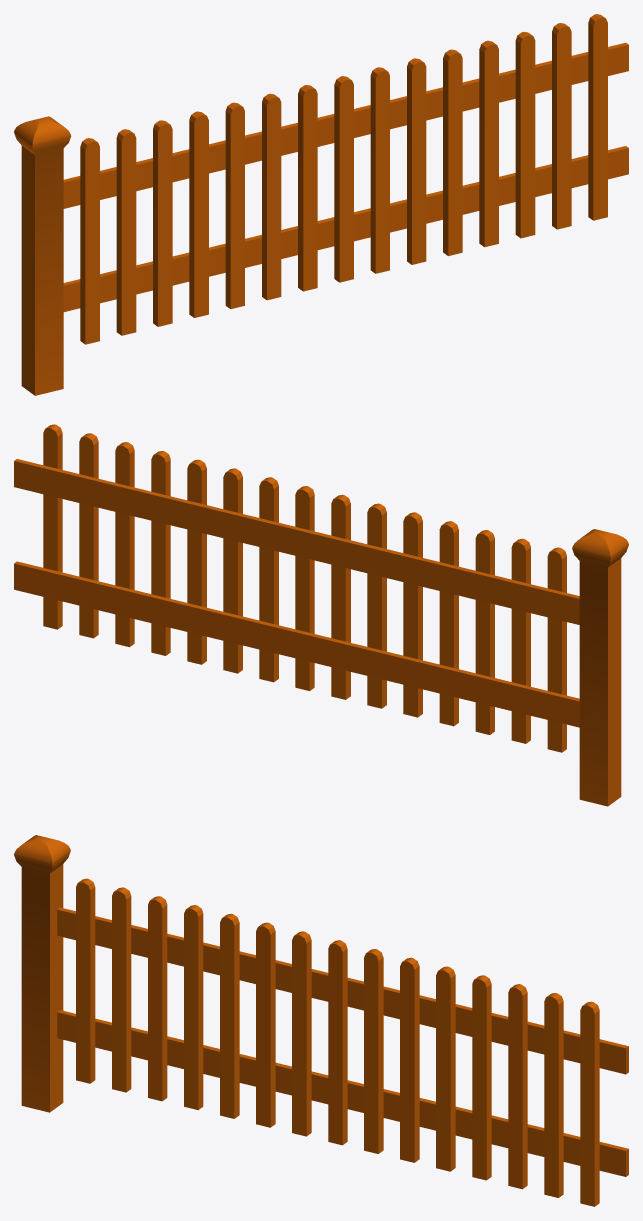
The model's file is Fence_3.1.fbx.
The picture shows the model from 3 angles, top to bottom: view 1: azimuth 30°, elevation 25°; view 2: azimuth 150°, elevation 25°; view 3: azimuth 330°, elevation 25°; orthographic projection.
Visible parts, largest first — view 1: Fence_3.1; view 2: Fence_3.1; view 3: Fence_3.1.
Part boxes in pixels (x1,y1,x2,y2): Fence_3.1: (14,14,628,395); Fence_3.1: (14,424,628,806); Fence_3.1: (14,835,628,1206).
Bounding box in the file's own units: 305 × 128 × 16.06.
Materials: 1 (1 with a texture image).
